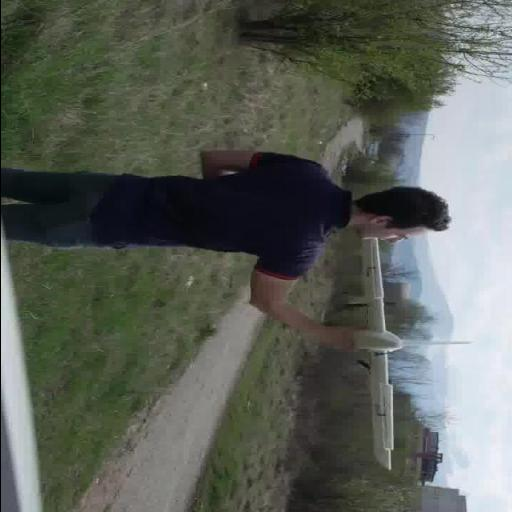uav: (330, 238, 476, 472)
